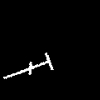double_crochet: (3, 53, 52, 78)
